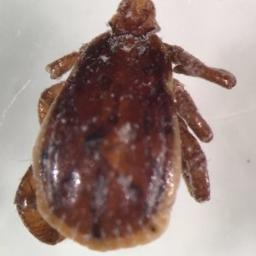Rhipicephalus sanguineus: (14, 0, 237, 252)
